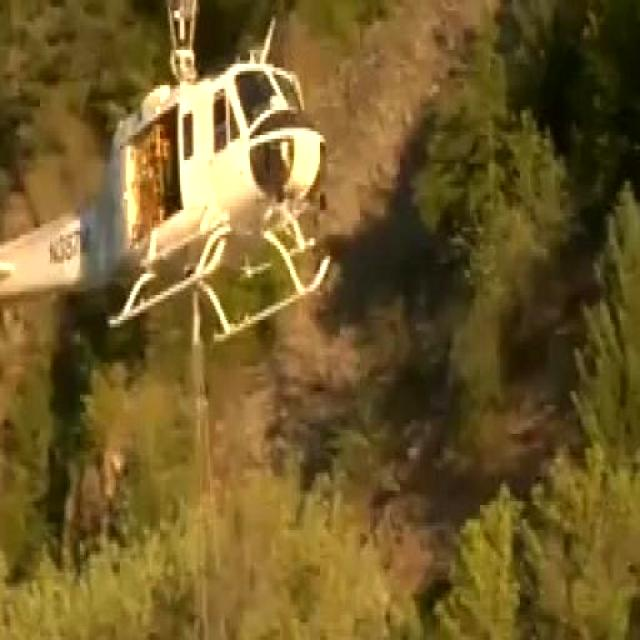drone: (0, 0, 340, 351)
